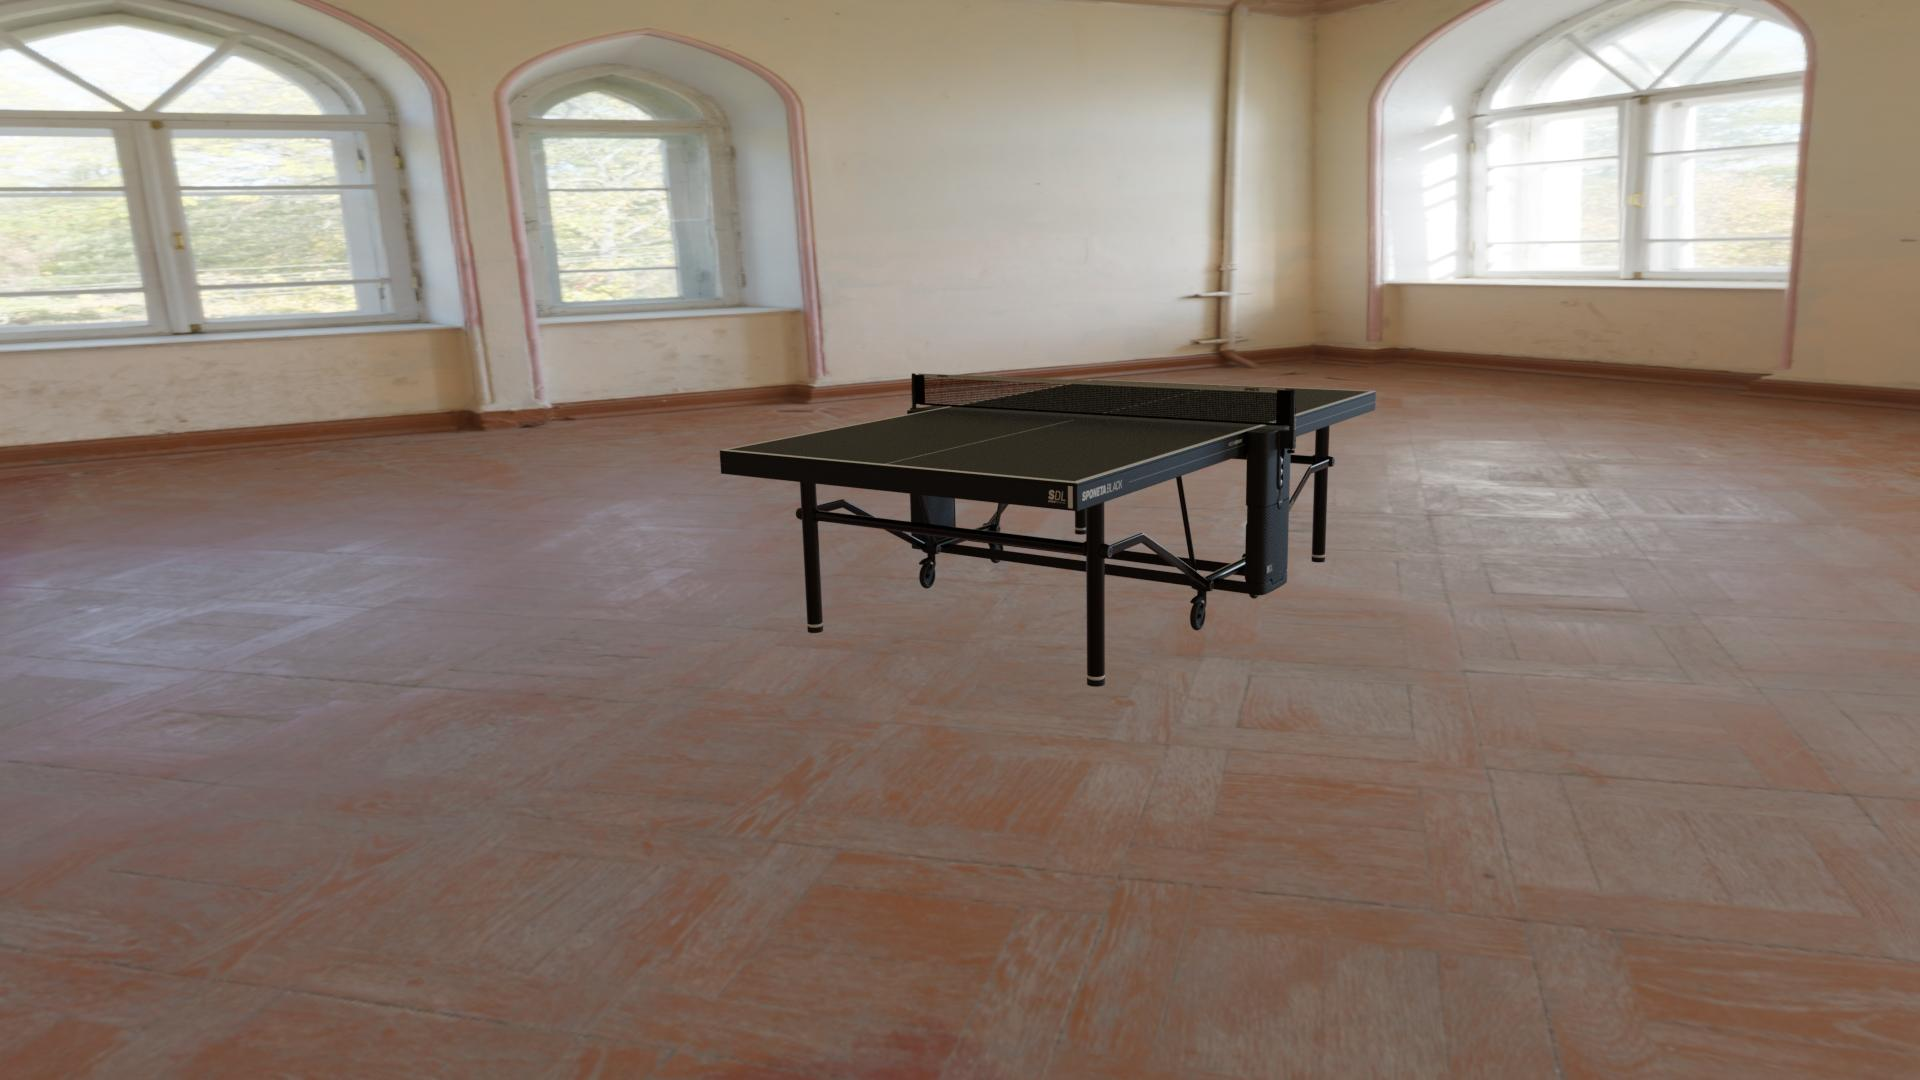table: (727, 380, 1370, 481)
